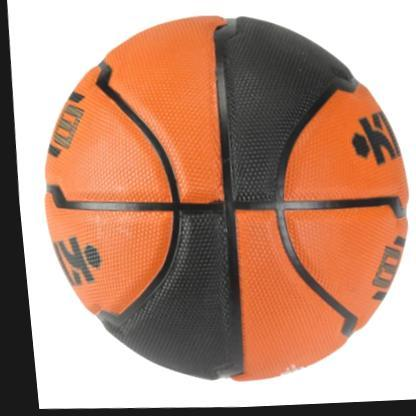basketball: (19, 5, 416, 398)
